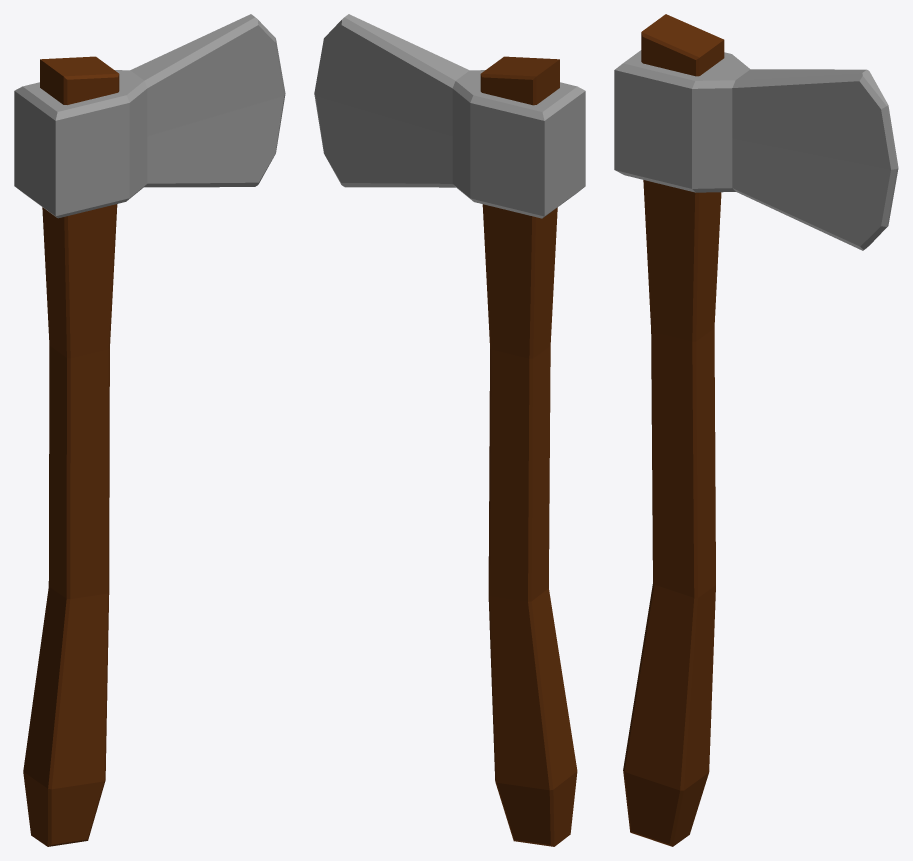
Rendered from low_poly_iron_axe.glb.
3 renders of one model, left to right at view 1: azimuth 30°, elevation 25°; view 2: azimuth 150°, elevation 25°; view 3: azimuth 330°, elevation 25°, orthographic. The views are drawn at different scales.
Parts seen in each view (by area): view 1: iron Axe; view 2: iron Axe; view 3: iron Axe.
Boxes of the visible parts, bbox=[...] form: iron Axe: bbox=[14, 14, 285, 846]; iron Axe: bbox=[314, 14, 585, 846]; iron Axe: bbox=[614, 14, 898, 846].
Size of the model in its own units: 8.6 by 25.55 by 2.46.
